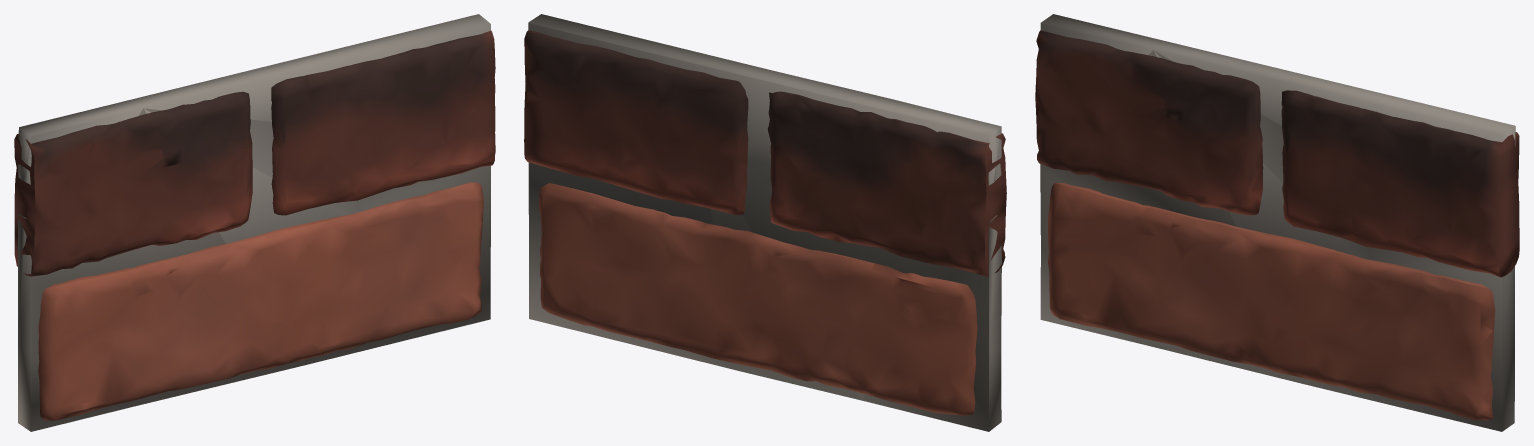
File: ember_brick_wall_d_lod1.glb
3 views of the same model, side by side, from view 1: azimuth 30°, elevation 25°; view 2: azimuth 150°, elevation 25°; view 3: azimuth 330°, elevation 25° (orthographic).
Parts seen in each view (by area): view 1: ember_brick_wall_d.001; view 2: ember_brick_wall_d.001; view 3: ember_brick_wall_d.001.
Part boxes in pixels (left/top/right/bottom): ember_brick_wall_d.001: left=14, top=14, right=495, bottom=431; ember_brick_wall_d.001: left=524, top=14, right=1006, bottom=431; ember_brick_wall_d.001: left=1035, top=14, right=1519, bottom=431.
Bounding box in the file's own units: 65.02 × 40.03 × 5.65.
